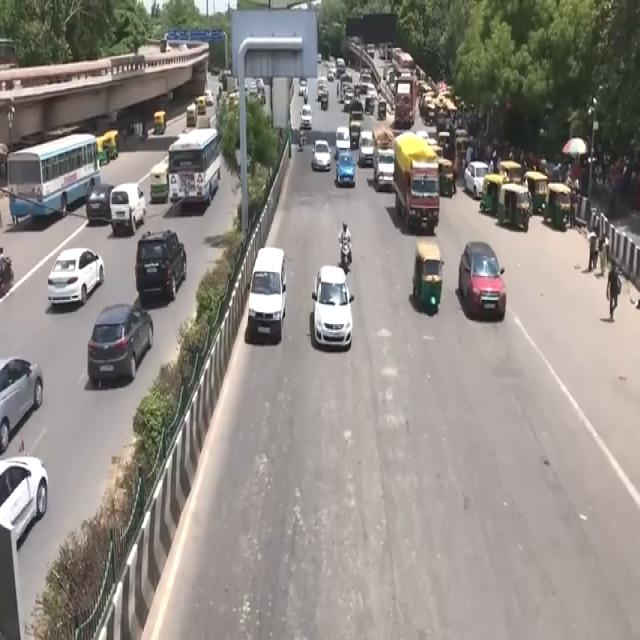BUS: (8, 132, 103, 228), (168, 132, 222, 213), (392, 73, 418, 129)
MOTORCYCLE: (341, 241, 353, 276)
TRUCK: (394, 136, 441, 234)
